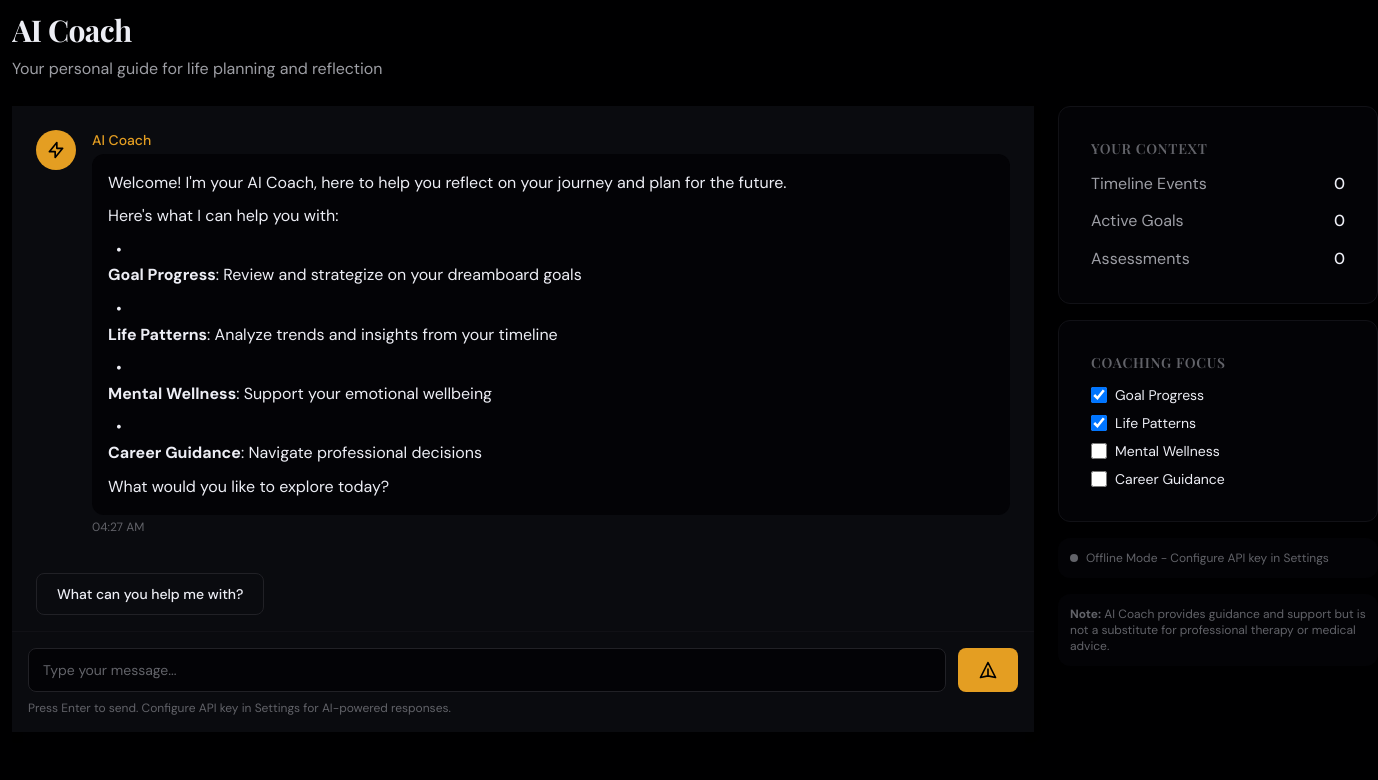
it: CoachView › Message Sending › sends message when clicking send button
Type "Hello there" into the field with placeholder "Type your message..." at (487, 670), box [28,648,946,692]
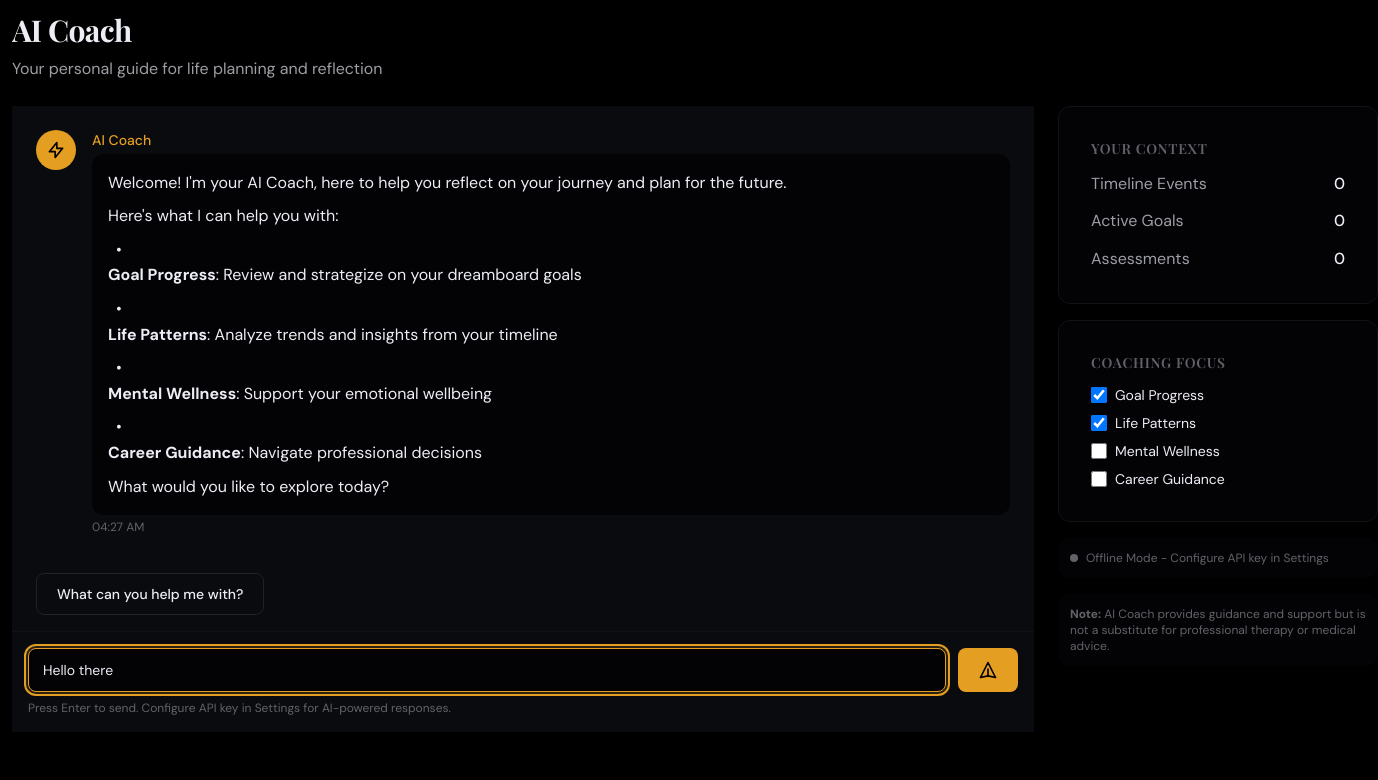
// Find the send button (it's after the input)
Click the 2nd button at (988, 670), box [958,648,1018,692]
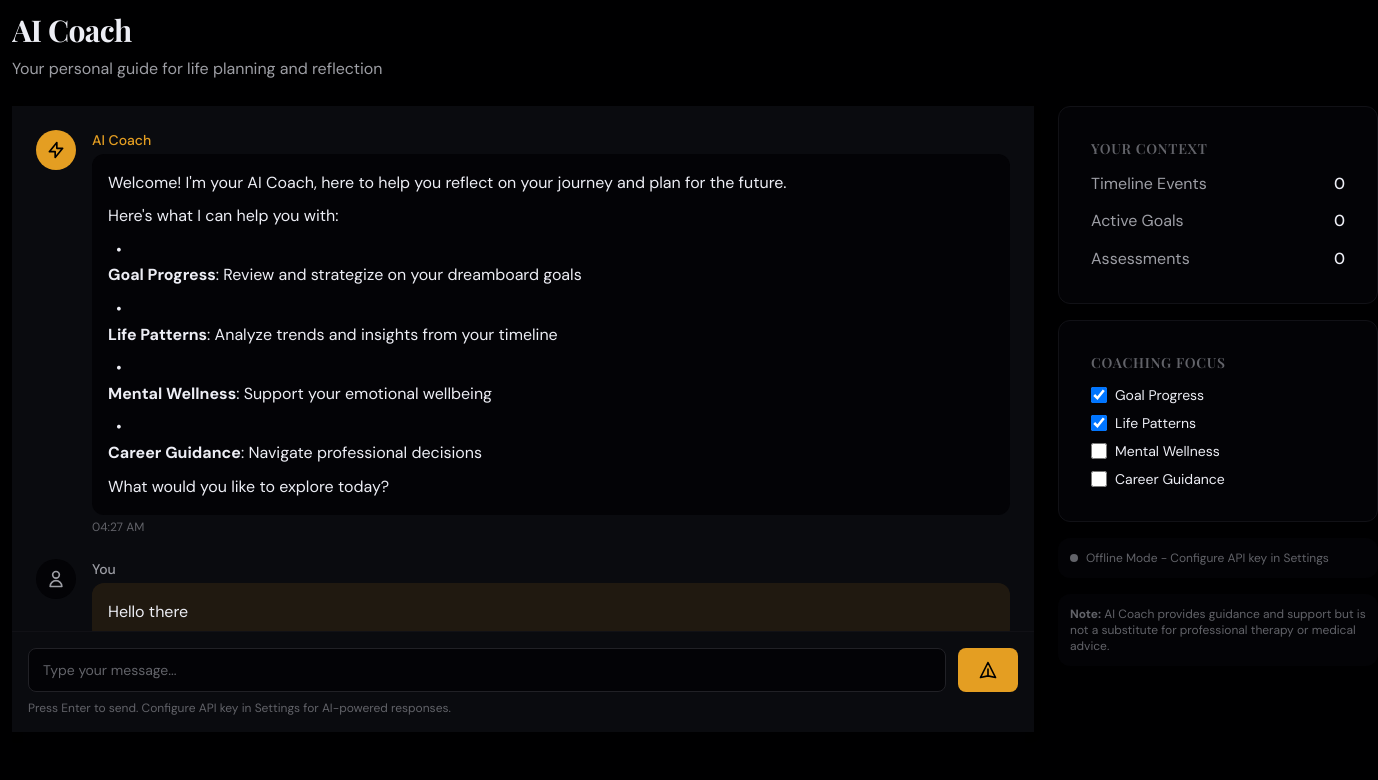
expect the text "Hello there" is shown: met, box [108,601,188,622]
